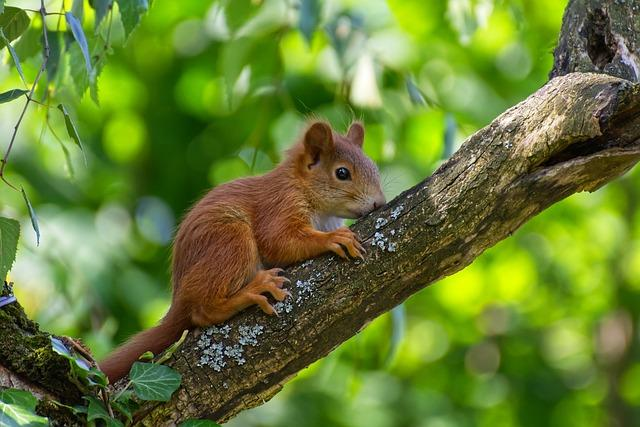Non_Gorille: (77, 78, 467, 402)
